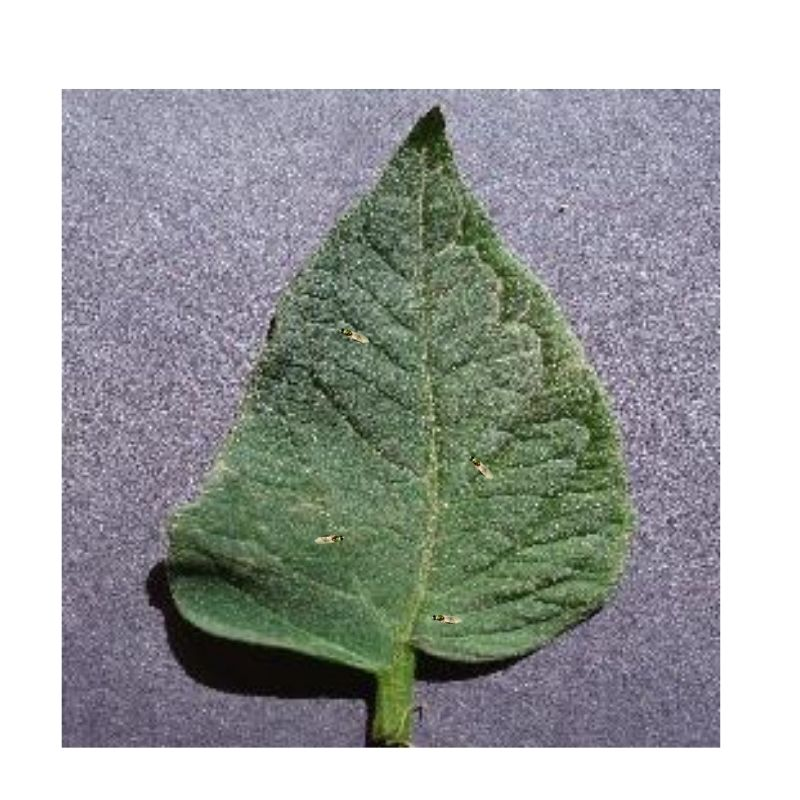liriomyza: (337, 325, 373, 347), (468, 452, 492, 480), (428, 610, 464, 627), (312, 532, 344, 544)
